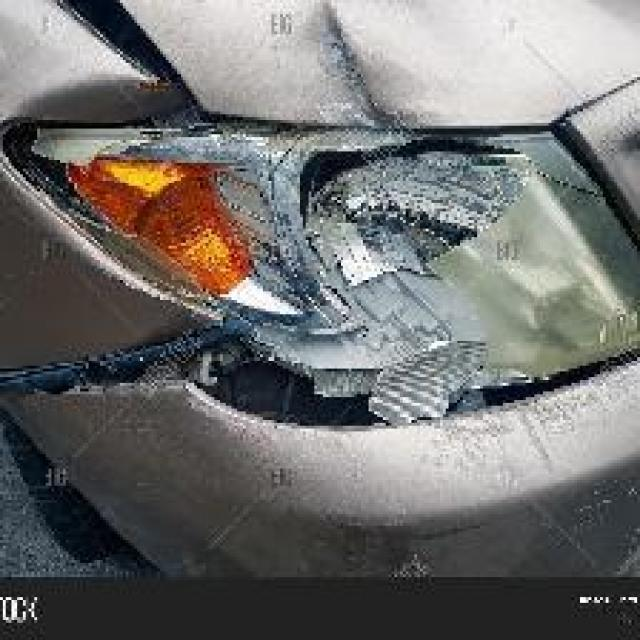damaged: (3, 80, 540, 434)
